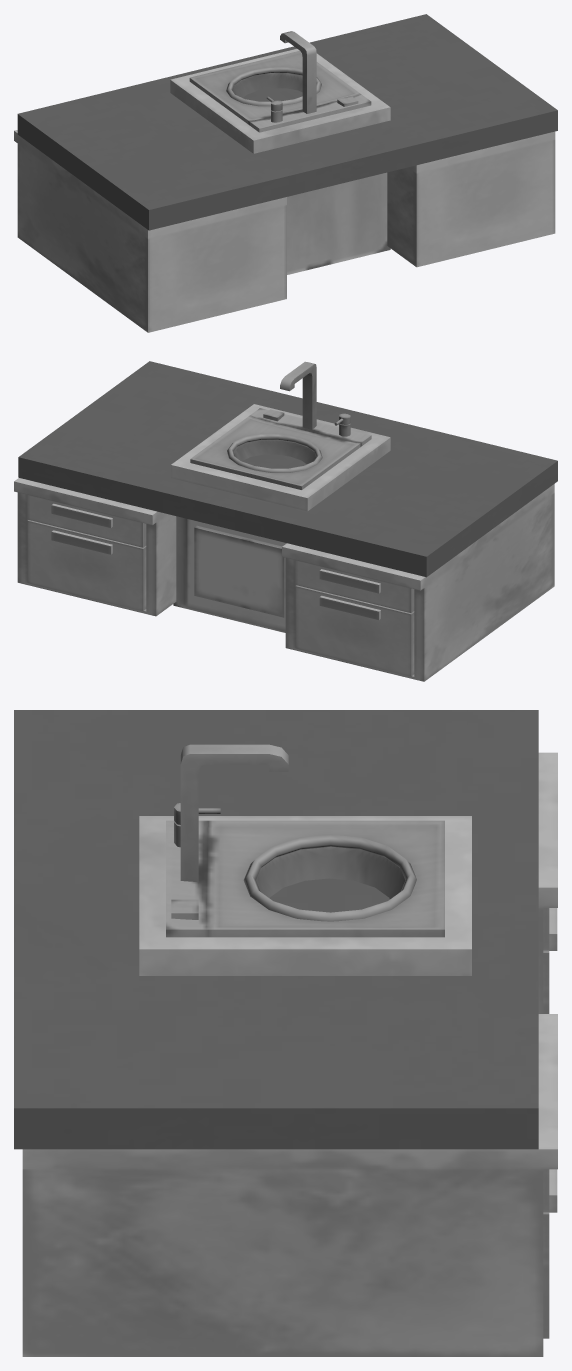
File: Pfb_Table_02_7_JLAB_Temp.fbx
The picture shows the model from 3 angles, top to bottom: view 1: azimuth 30°, elevation 25°; view 2: azimuth 150°, elevation 25°; view 3: azimuth 270°, elevation 25°; orthographic projection. The views are drawn at different scales.
Parts seen in each view (by area): view 1: Kitchen, Mat_Table_02White; view 2: Kitchen, Mat_Table_02White; view 3: Mat_Table_02White, Kitchen.
Part boxes in pixels (x1=…): Kitchen: x1=14, y1=31, x2=555, y2=332; Mat_Table_02White: x1=17, y1=14, x2=557, y2=230; Kitchen: x1=14, y1=361, x2=554, y2=681; Mat_Table_02White: x1=18, y1=361, x2=557, y2=577; Mat_Table_02White: x1=14, y1=710, x2=538, y2=1149; Kitchen: x1=22, y1=744, x2=557, y2=1356.
Bounding box in the file's own units: 2.23 × 1.09 × 1.28.
Materials: 2 (2 with a texture image).
